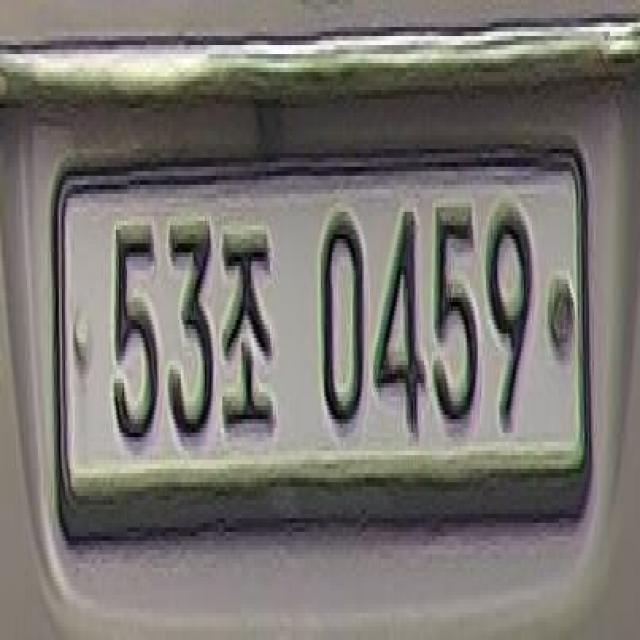0: (314, 192, 367, 448)
3: (166, 202, 216, 451)
4: (370, 200, 430, 456)
5: (108, 203, 161, 451), (433, 195, 479, 432)
9: (484, 203, 540, 438)
jo: (218, 215, 278, 452)
license_plate: (41, 111, 611, 595)
